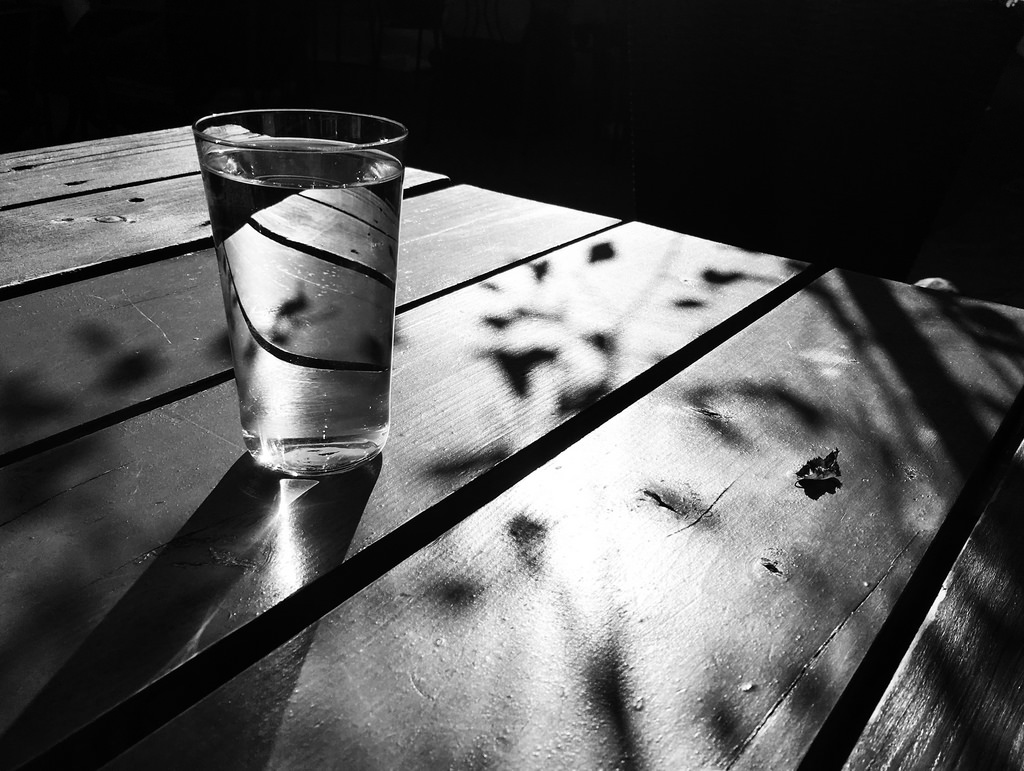glass of water: (193, 123, 417, 487)
